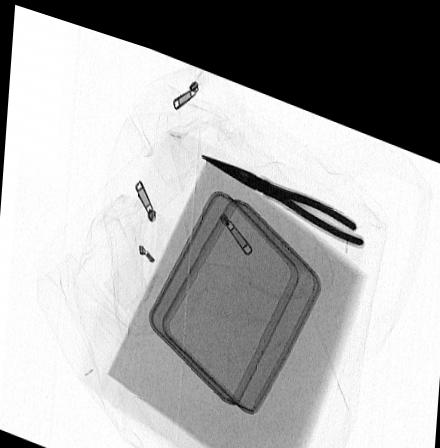Pliers: (195, 137, 366, 223)
